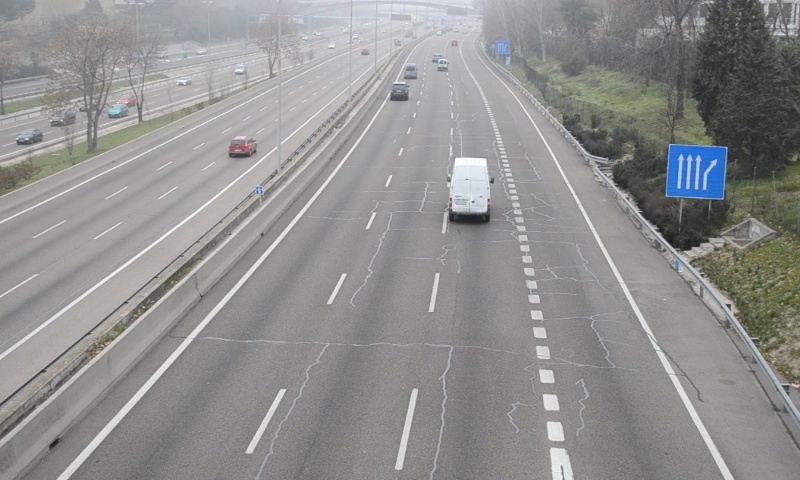car: (389, 82, 410, 100)
van: (449, 157, 491, 224), (404, 62, 418, 78)
